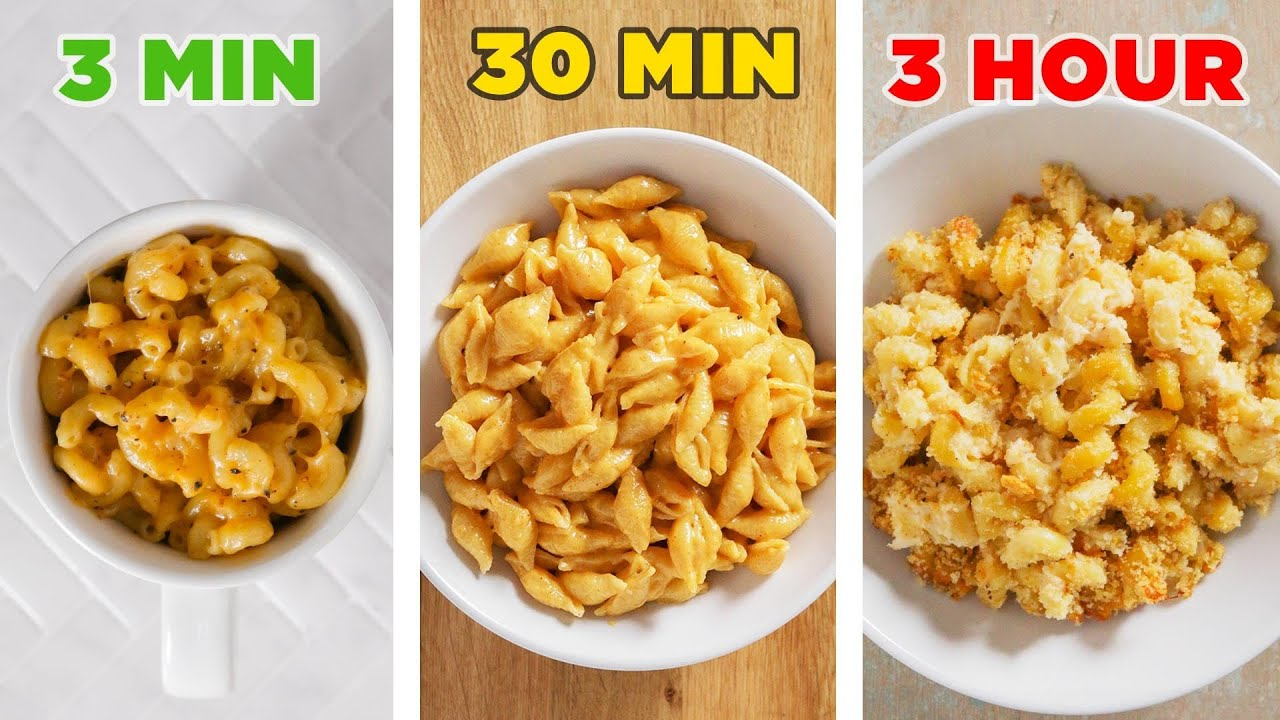cheese: (517, 250, 741, 542), (955, 203, 1144, 472), (138, 323, 379, 501)
